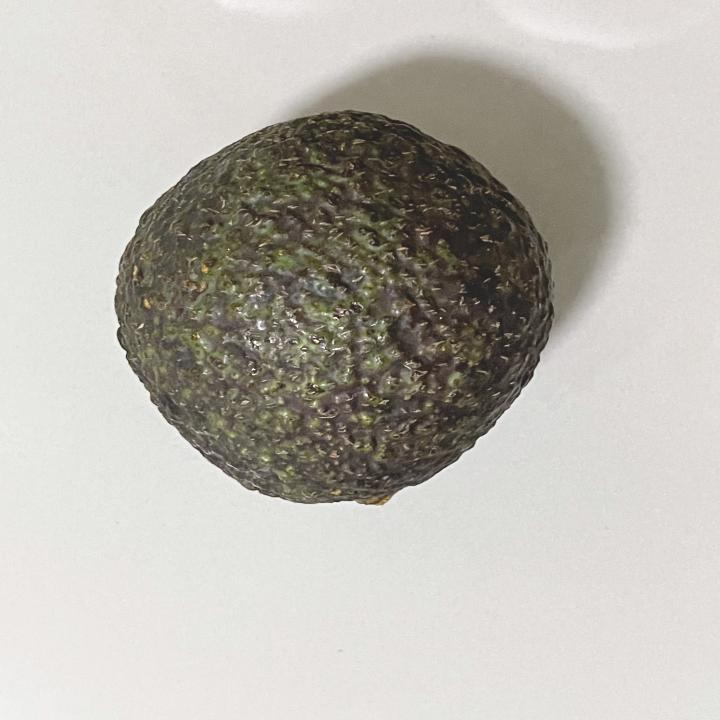Level1: (103, 98, 568, 518)
